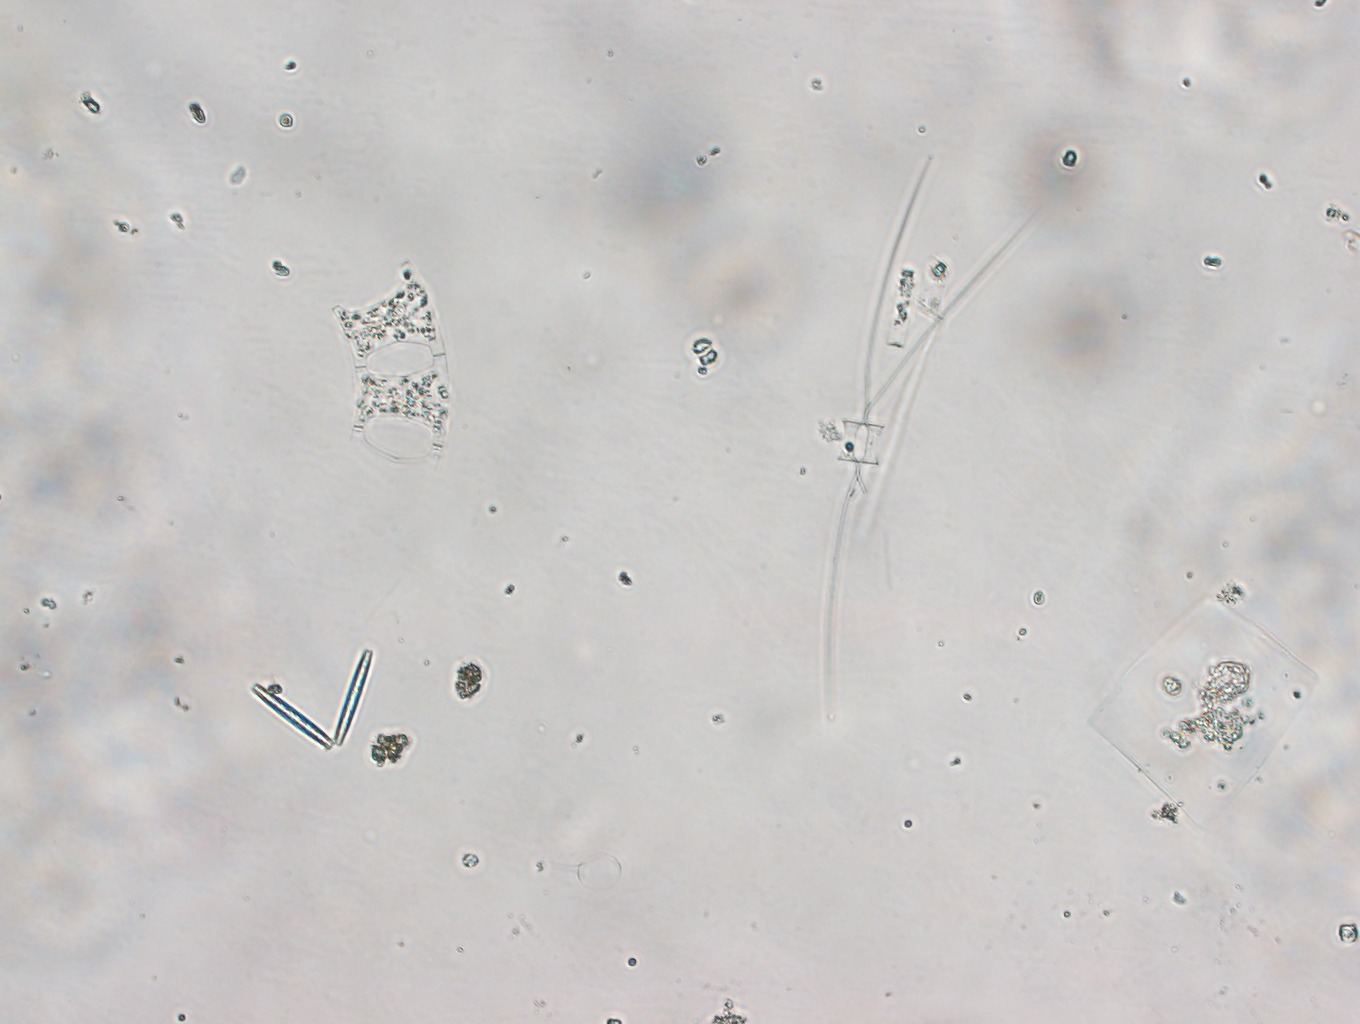chaetoceros: (805, 143, 1053, 728)
eucampia: (317, 260, 458, 481)
helicotheca: (1073, 579, 1326, 840)
thalassionema nitzschioides: (242, 642, 376, 756)
